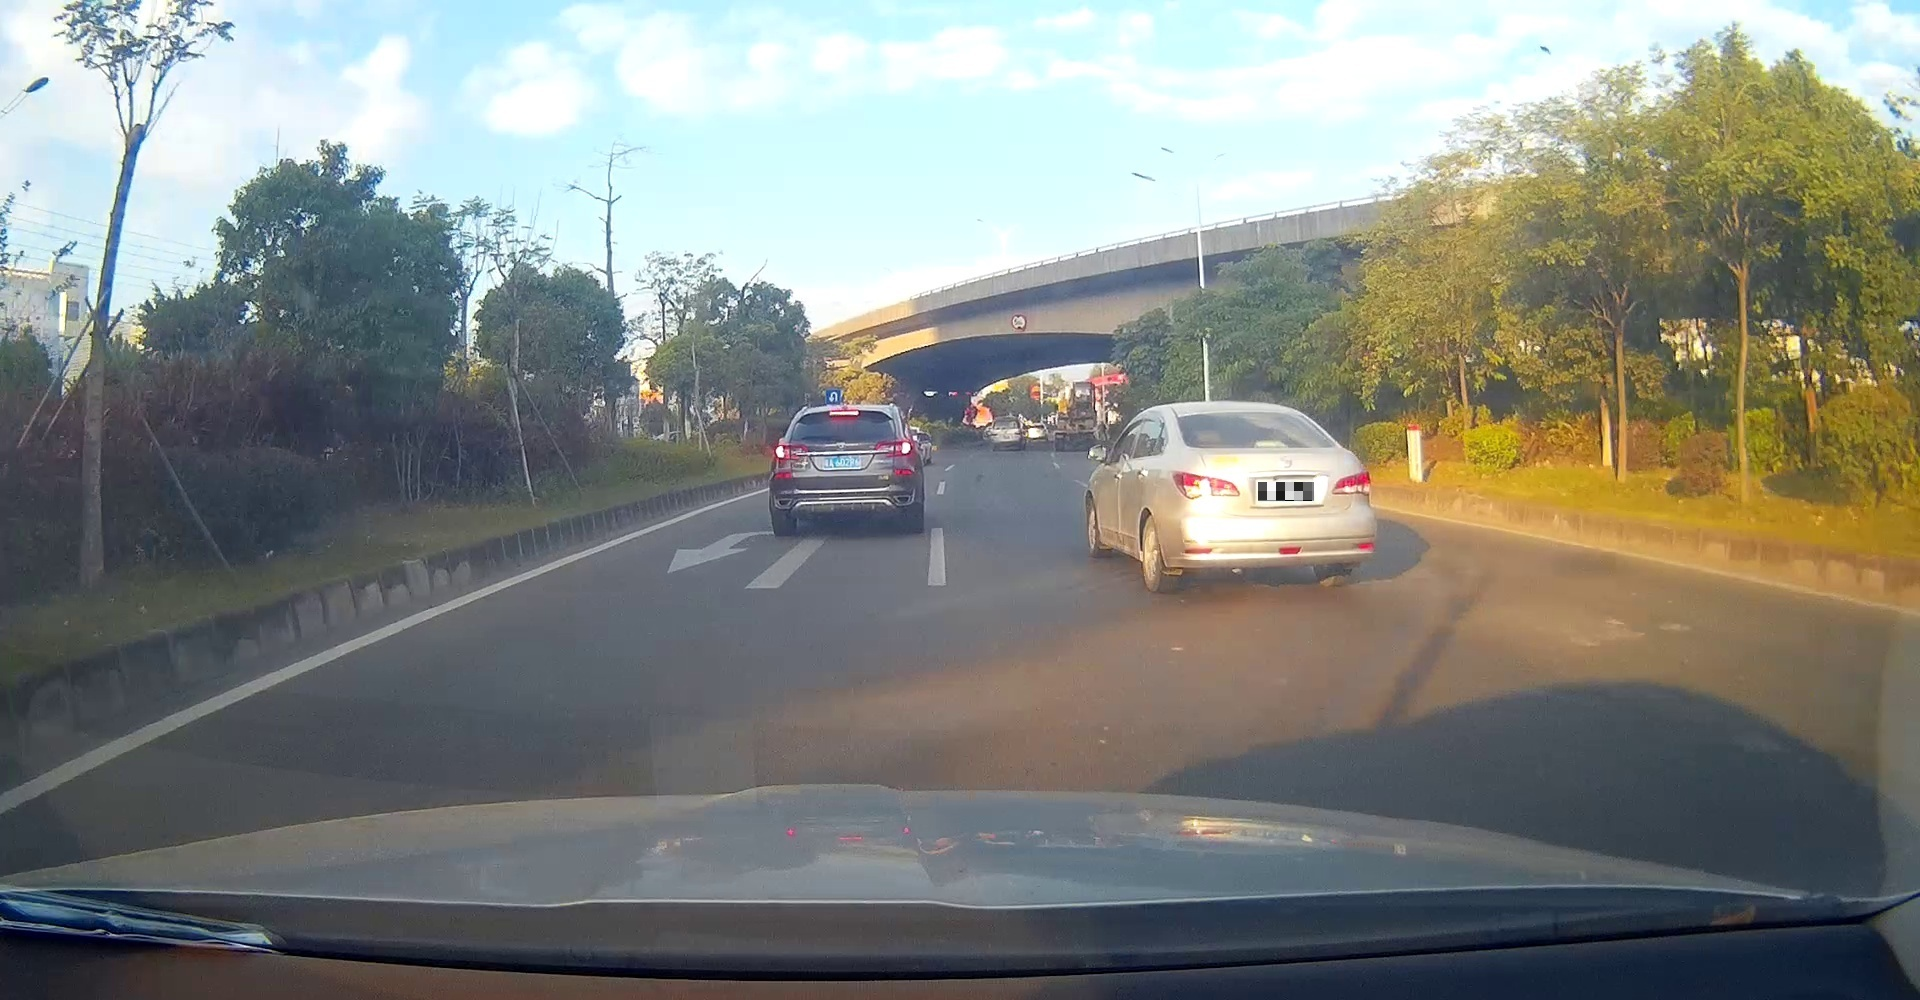L_light: (1172, 471, 1239, 500), (775, 445, 806, 459)
R_light: (1332, 471, 1371, 495), (872, 440, 913, 456)
T_light: (1255, 442, 1288, 448), (829, 411, 858, 416)
day-brake: (768, 405, 923, 534)
day-no: (1171, 400, 1377, 591)
plate_1: (1258, 482, 1314, 501)
